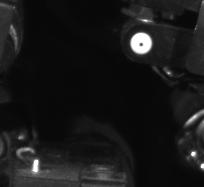fiber: (128, 29, 155, 57)
